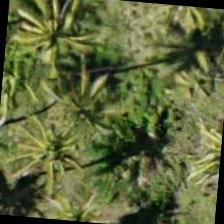Kelapa_Sawit: (36, 50, 134, 148), (2, 98, 100, 196), (4, 0, 102, 83), (0, 29, 58, 124), (36, 170, 132, 223)
